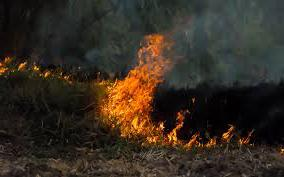fire: (91, 30, 250, 149)
